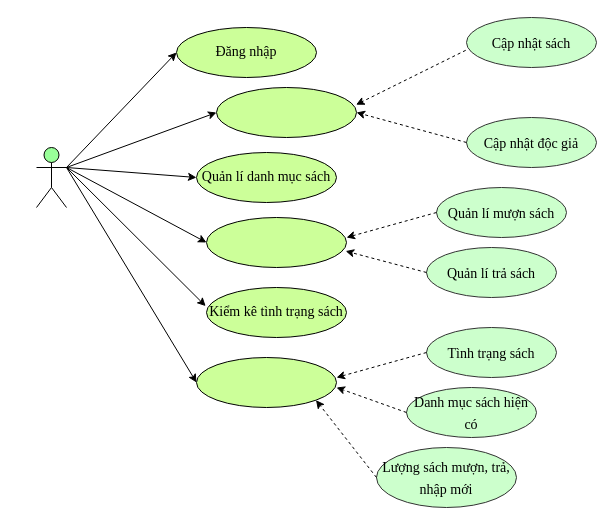
Some shapes in this 614 by 525 pixel diagram are drawn without their labels. The shapes that lost their labels are listed below. From the top down, each one's centre as x and y in pixels, then its label:
At [286,112]: "Cập nhật".
At [51,177]: "Thủ thư".
At [276,242]: "Quản lí mượn - trả sách".
At [266,382]: "Thống kê".
